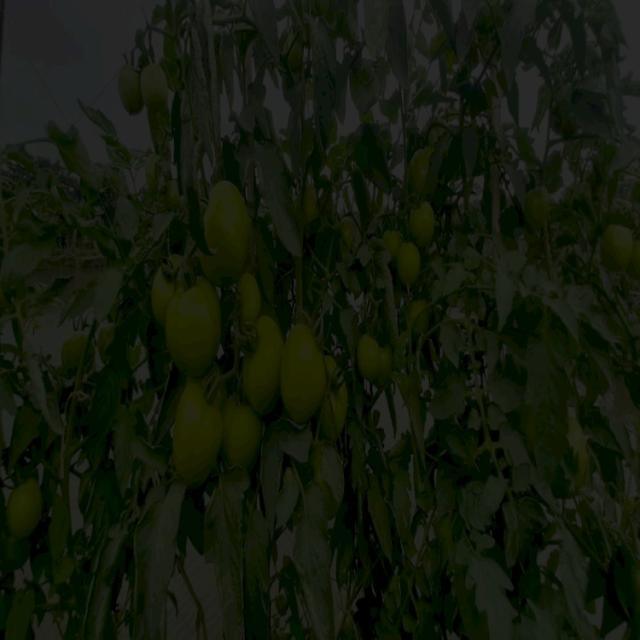tomato: (173, 385, 224, 487), (240, 314, 287, 421), (170, 284, 223, 375), (280, 323, 323, 428), (207, 185, 255, 276), (223, 403, 268, 478), (318, 352, 354, 445), (354, 341, 394, 396), (155, 255, 188, 321), (117, 57, 152, 118), (602, 220, 638, 278), (412, 147, 444, 211), (9, 478, 43, 536), (148, 61, 183, 113), (522, 185, 548, 237), (237, 273, 264, 322), (336, 211, 363, 259), (411, 205, 436, 256), (400, 242, 424, 289), (64, 330, 90, 367), (166, 182, 193, 216), (303, 179, 326, 218), (389, 223, 411, 257), (411, 297, 428, 330)
